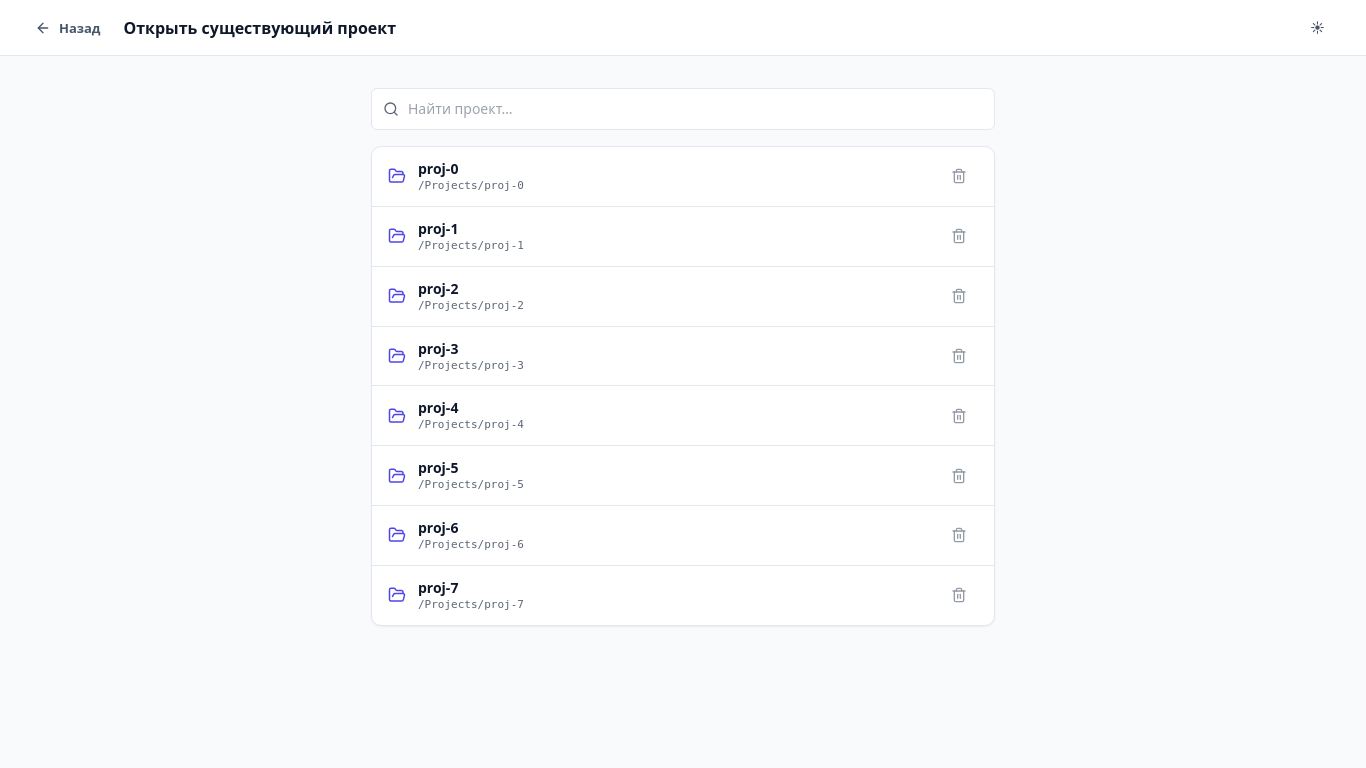
Test: OpenExisting — фильтр-поиск (§2.4-2, todo_17 T2) › shows «Ничего не найдено…» when the filter matches nothing
Expected: the list with test id "open-list" is shown, [371,146,995,626]
In the field with test id "project-filter": (683, 109) [371,88,995,130], type "нет такого"
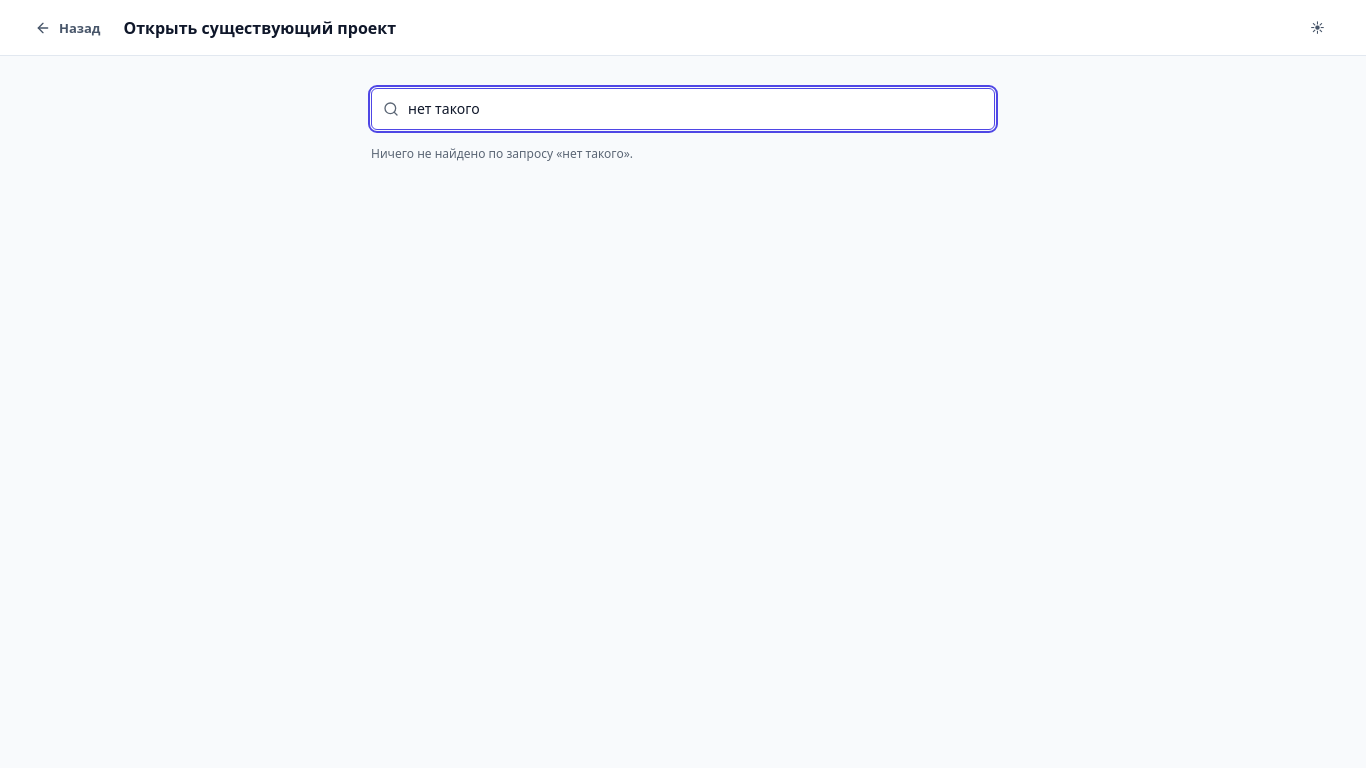
Expected: the list with test id "open-list" is gone
Expected: the text with test id "open-filter-empty" reads "Ничего не найдено по запросу «нет такого».", [371,145,633,162]
